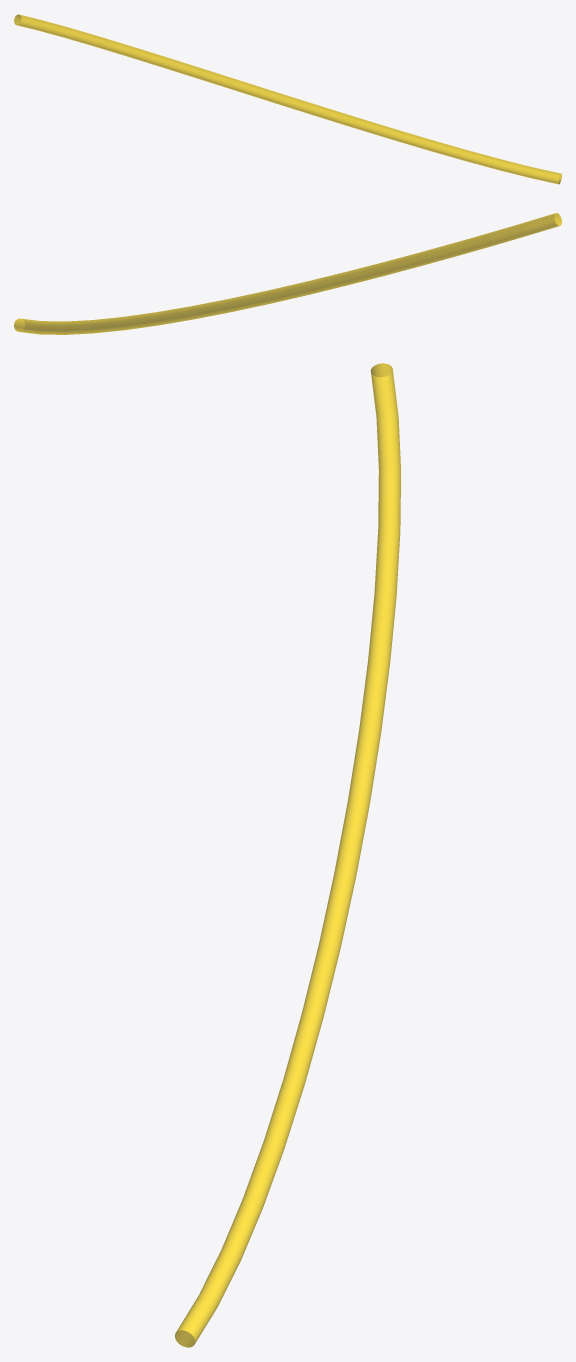
Rendered from Event_100608114_track_97.fbx.
3 views of the same model, one above another, from view 1: azimuth 30°, elevation 25°; view 2: azimuth 150°, elevation 25°; view 3: azimuth 270°, elevation 25° (orthographic). The views are drawn at different scales.
Parts seen in each view (by area): view 1: Model; view 2: Model; view 3: Model.
Part boxes in pixels (bbox=[...]): Model: bbox=[14, 14, 561, 184]; Model: bbox=[14, 213, 561, 334]; Model: bbox=[175, 363, 400, 1347].
Size of the model in its own units: 2.06 by 1 by 0.406.
